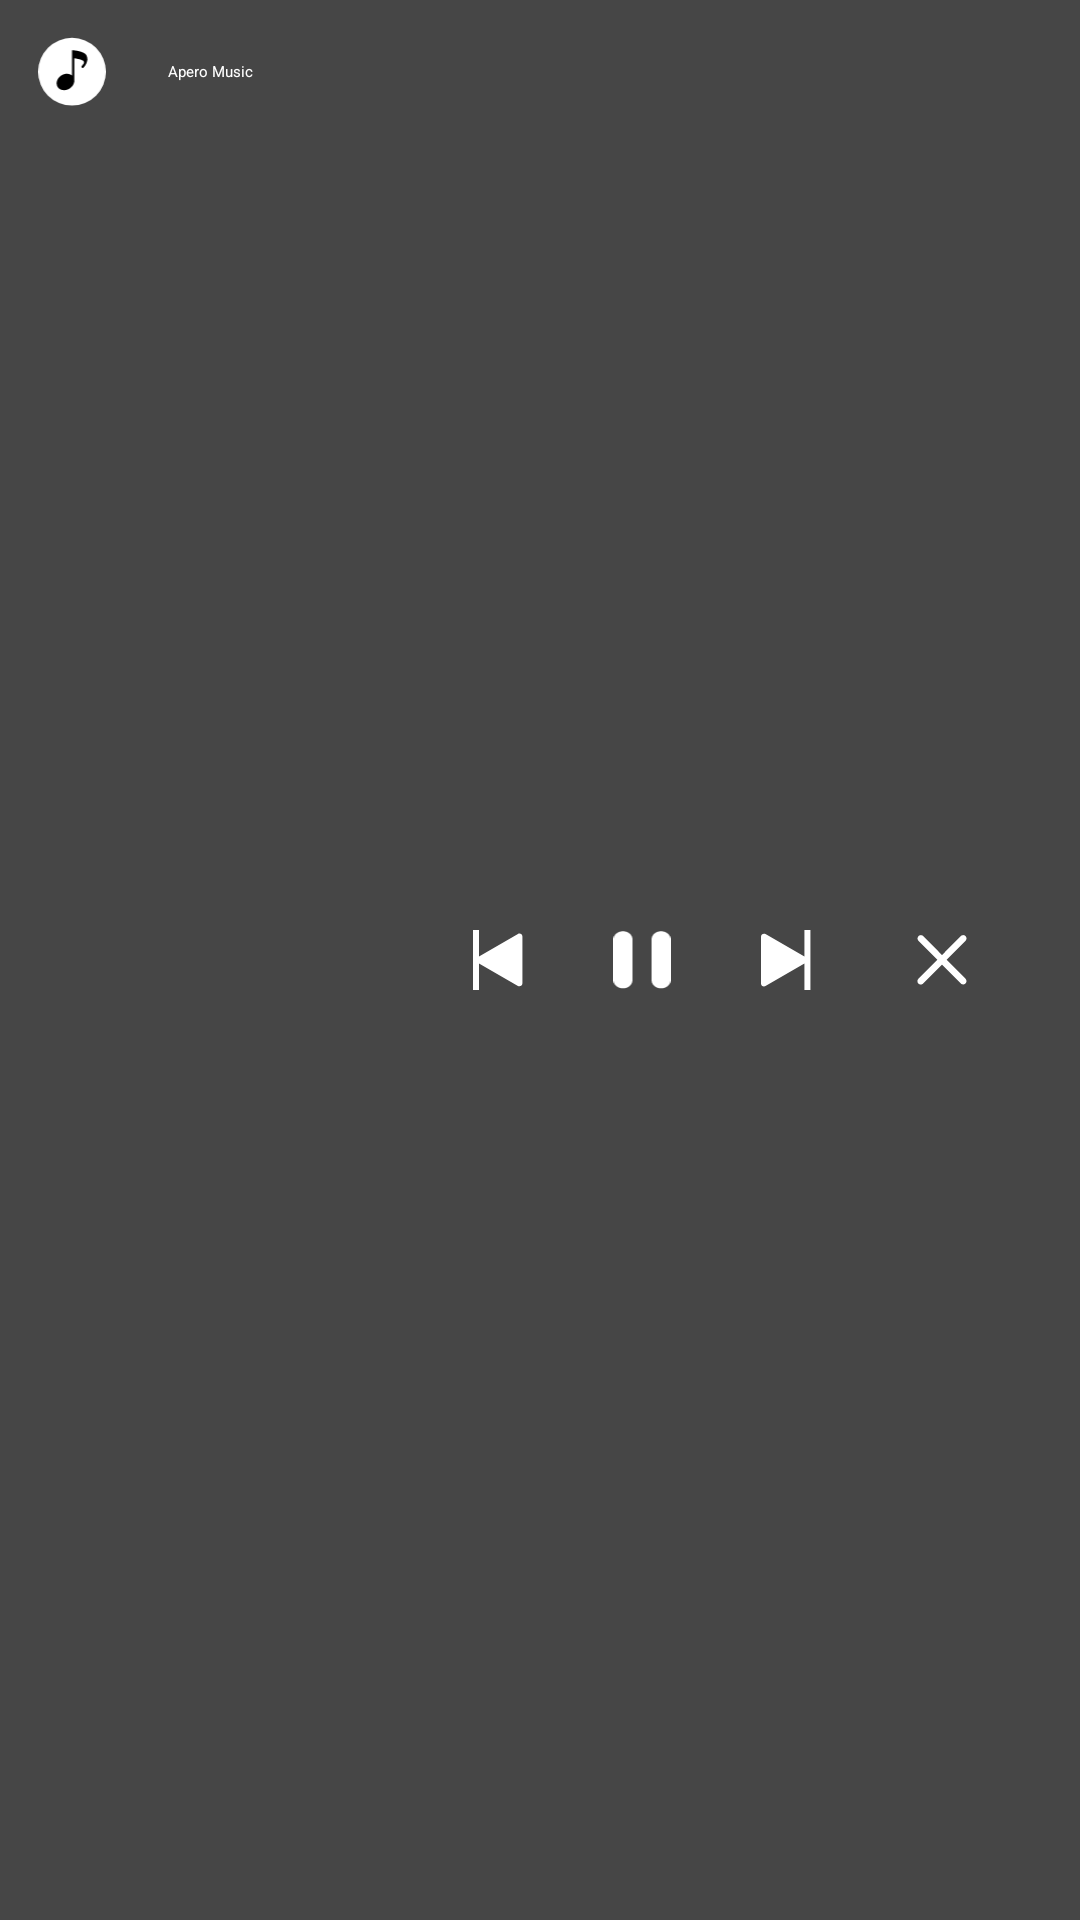

Icons on this 1080px x 1920px Android screen, each with its box as (x1, y1, x2, y2):
musicbar notification close: (917, 935, 967, 985)
musicbar notification pause: (613, 931, 671, 989)
notification music: (38, 37, 106, 106)
player notification next: (761, 930, 811, 990)
player notification previous: (473, 930, 523, 990)
